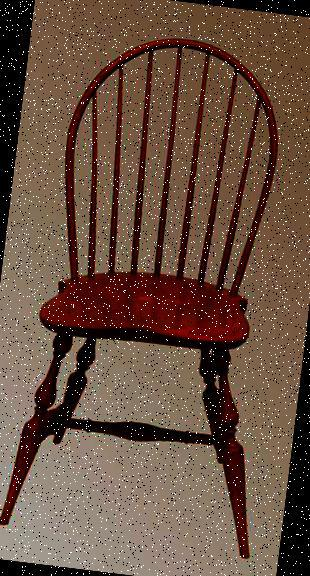Silla: (7, 28, 308, 556)
